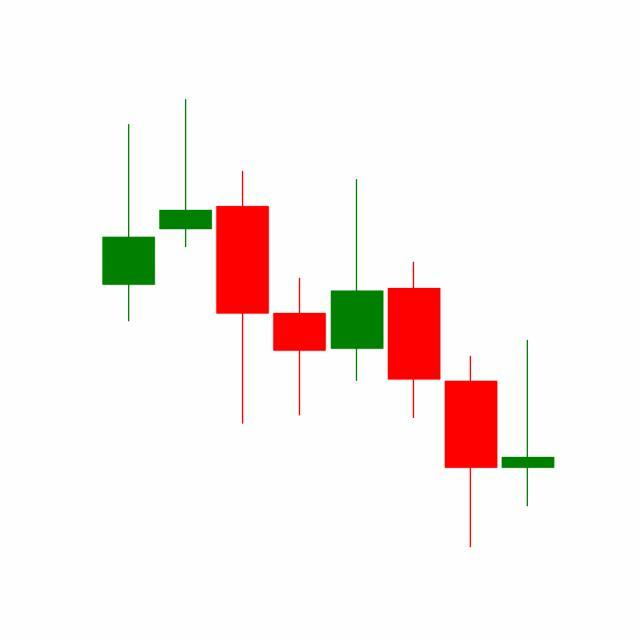Hikkake Pattern: (214, 167, 501, 549)
